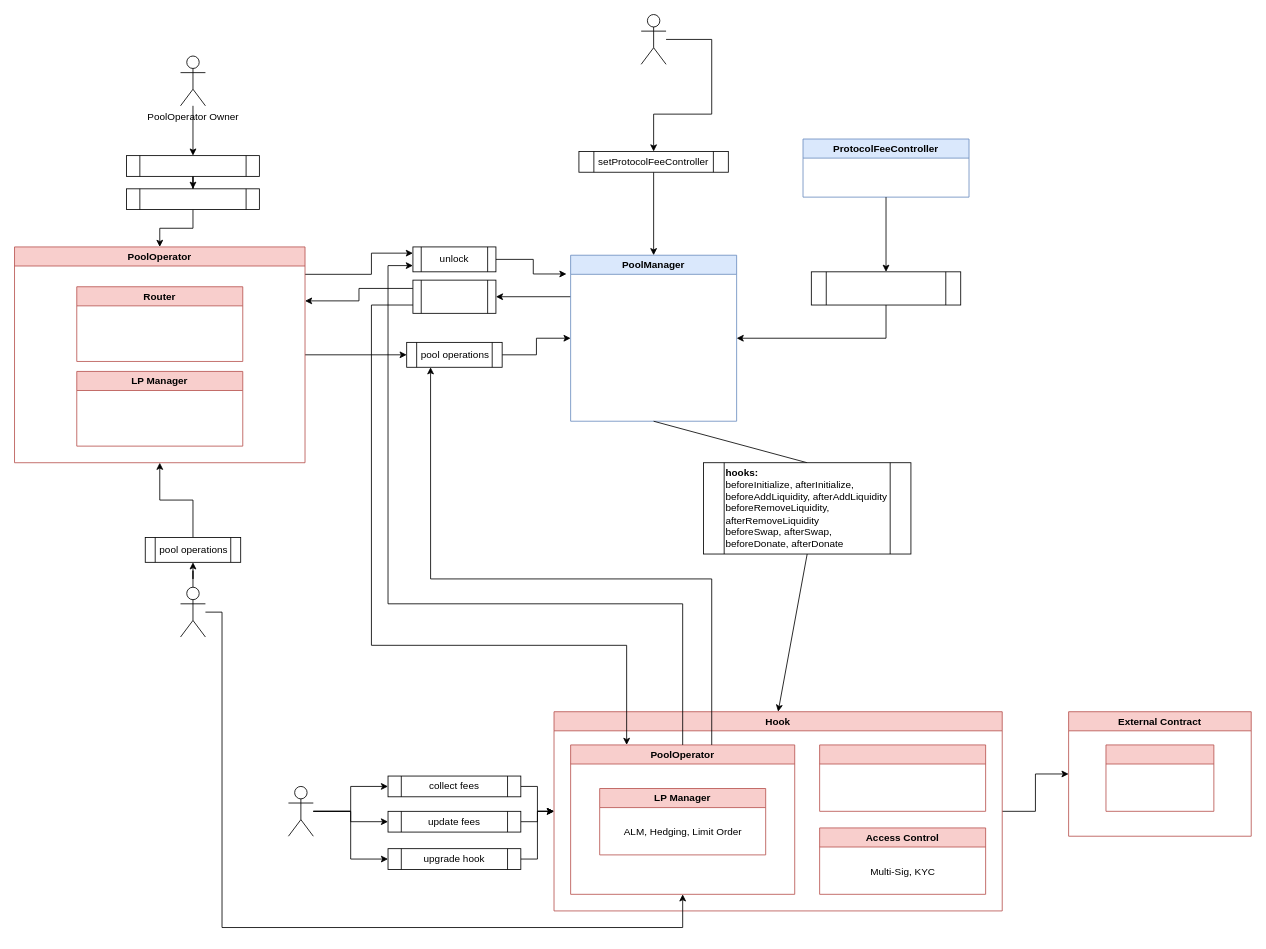
The diagram is 1266 pixels wide and 949 high, and some of its shapes have lost their labels. Here are the shapes that lost their labels. From the top down, the centre of each, then its label:
At pixel 653 39: "ProtocolOwner".
At pixel 192 165: "update params".
At pixel 192 199: "upgrade PoolOperator".
At pixel 454 296: "unlockCallback".
At pixel 885 288: "setProtocolFee collectProtocolFees".
At pixel 192 611: "User".
At pixel 902 777: "Oracle".
At pixel 1159 777: "External Oracle".
At pixel 300 811: "Hook Owner".
